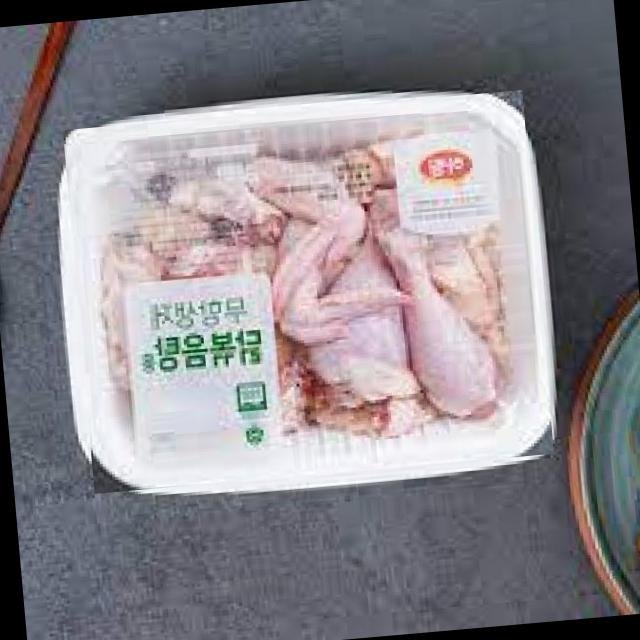chicken: (62, 90, 554, 494)
